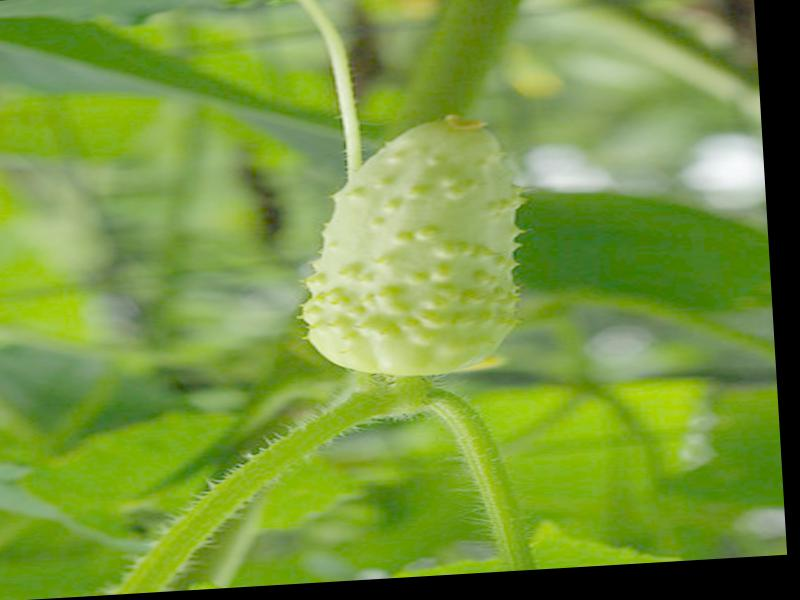Cucumber: (289, 109, 526, 383)
